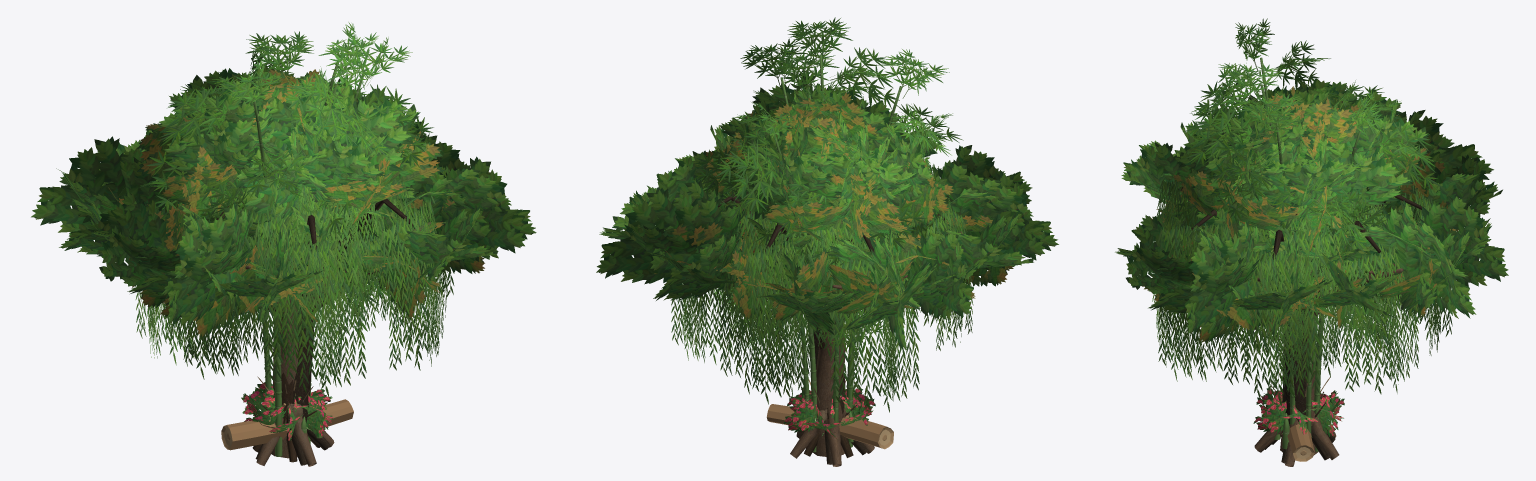
Rendered from v061_nature_wildlife.glb.
The picture shows the model from 3 angles, left to right: view 1: azimuth 30°, elevation 25°; view 2: azimuth 150°, elevation 25°; view 3: azimuth 270°, elevation 25°; orthographic projection. The views are drawn at different scales.
Parts seen in each view (by area): view 1: tree_camphor, tree_willow, bamboo_clump, tree_maple_tallow, prop_azalea_bush, bamboo_culm_single, prop_fallen_log; view 2: tree_camphor, tree_willow, tree_maple_tallow, bamboo_clump, prop_azalea_bush, bamboo_culm_single, prop_fallen_log; view 3: tree_camphor, tree_willow, bamboo_clump, tree_maple_tallow, bamboo_culm_single, prop_azalea_bush, prop_fallen_log.
Boxes of the visible parts, x1,y1,x2,y2 form: tree_camphor: (31, 65, 536, 466); tree_willow: (135, 161, 454, 465); bamboo_clump: (140, 22, 433, 456); tree_maple_tallow: (108, 69, 484, 462); prop_azalea_bush: (241, 382, 334, 440); bamboo_culm_single: (268, 44, 393, 302); prop_fallen_log: (221, 399, 353, 450); tree_camphor: (596, 83, 1058, 466); tree_willow: (671, 143, 973, 464); tree_maple_tallow: (654, 92, 1013, 457); bamboo_clump: (682, 17, 963, 452); prop_azalea_bush: (783, 386, 875, 439); bamboo_culm_single: (728, 48, 869, 245); prop_fallen_log: (766, 395, 893, 449); tree_camphor: (1115, 78, 1508, 466); tree_willow: (1151, 142, 1452, 463); bamboo_clump: (1183, 18, 1442, 451); tree_maple_tallow: (1142, 86, 1458, 444); bamboo_culm_single: (1185, 88, 1358, 335); prop_azalea_bush: (1253, 387, 1344, 436); prop_fallen_log: (1287, 424, 1314, 461).
Bounding box in the file's own units: 9.7 × 9.45 × 8.72.
12 materials, 9 textured.
